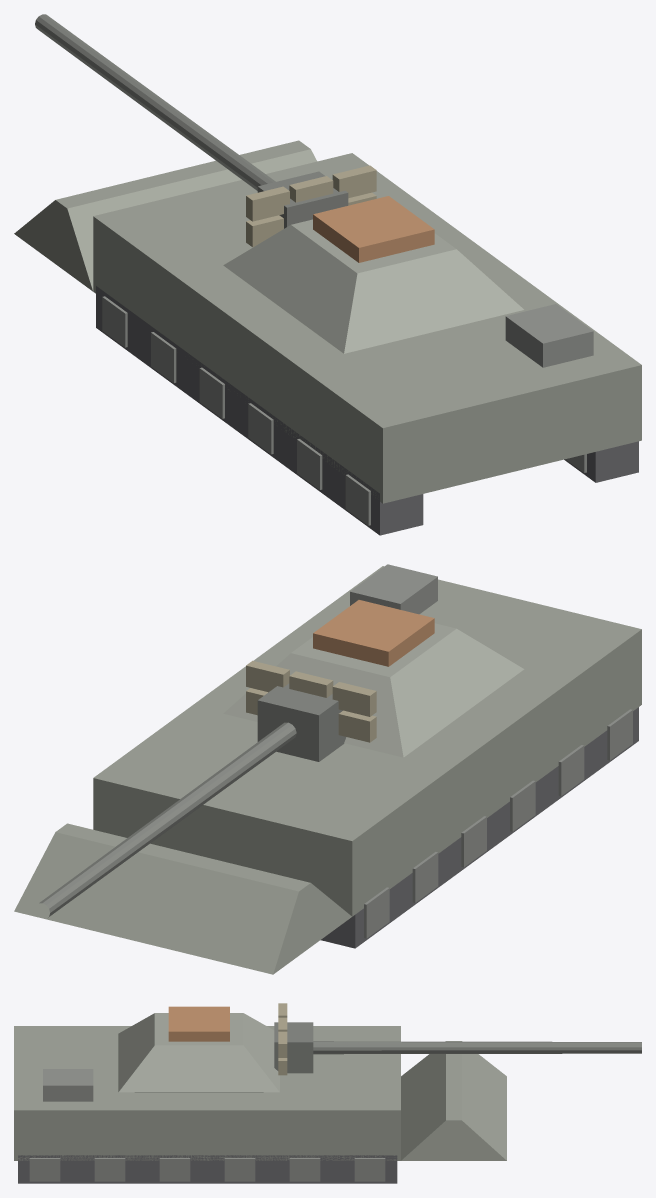
File: mbt_e4_ru_LOD0.glb
3 renders of one model, top to bottom at view 1: azimuth 30°, elevation 25°; view 2: azimuth 150°, elevation 25°; view 3: azimuth 270°, elevation 25°, orthographic. The views are drawn at different scales.
Visible parts, largest first — view 1: mbt_e4_ru_LOD0_body; view 2: mbt_e4_ru_LOD0_body; view 3: mbt_e4_ru_LOD0_body.
Boxes of the visible parts, bbox=[...] form: mbt_e4_ru_LOD0_body: bbox=[14, 14, 641, 535]; mbt_e4_ru_LOD0_body: bbox=[14, 564, 641, 974]; mbt_e4_ru_LOD0_body: bbox=[14, 1003, 641, 1183].
Size of the model in its own units: 3.66 by 2.42 by 11.28.
